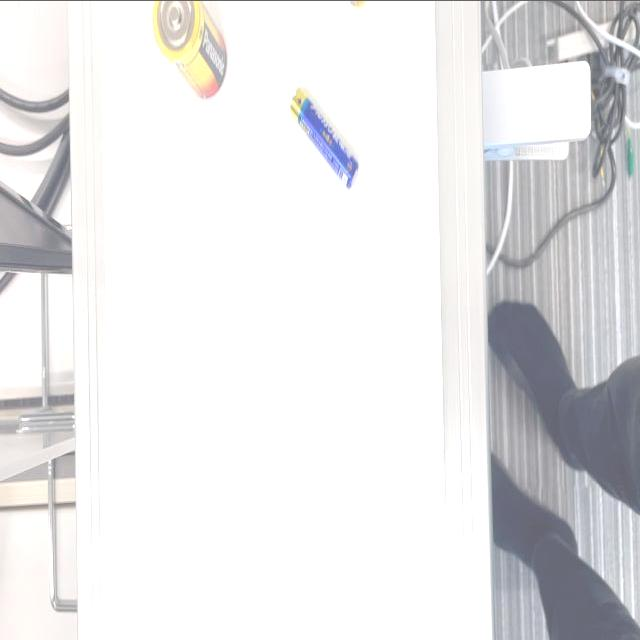AA: (287, 84, 360, 195)
